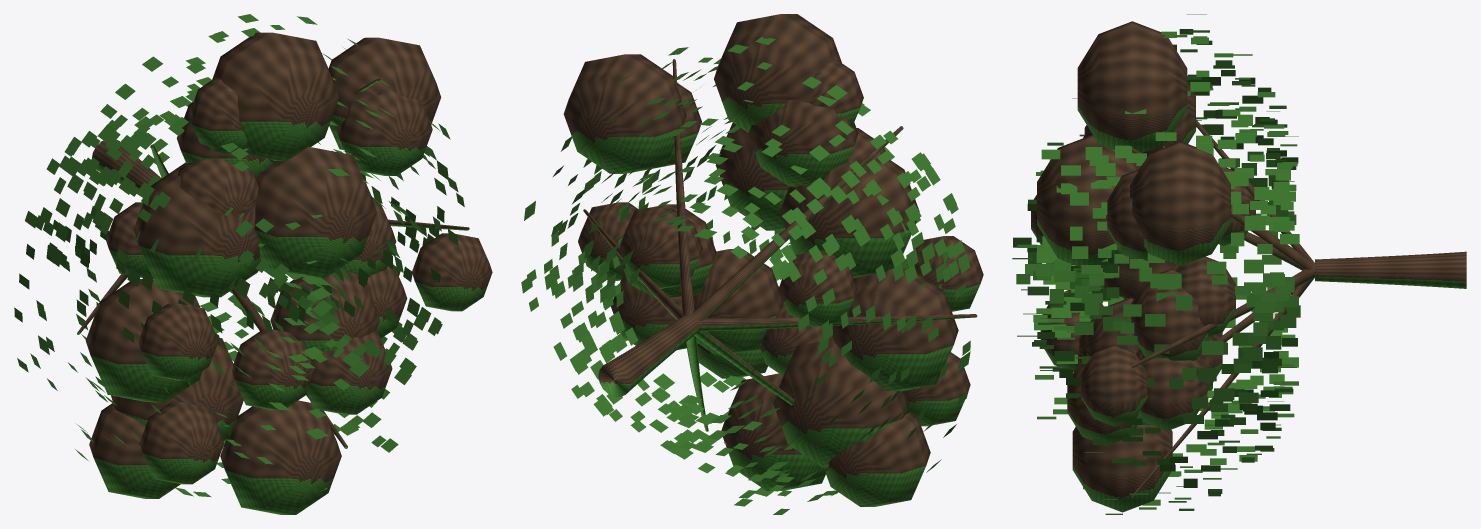
The model's file is veg_tree_oak_01.obj.
3 renders of one model, left to right at view 1: azimuth 30°, elevation 25°; view 2: azimuth 150°, elevation 25°; view 3: azimuth 270°, elevation 25°, orthographic.
Visible parts, largest first — view 1: veg_tree_oak_01; view 2: veg_tree_oak_01; view 3: veg_tree_oak_01.
Part boxes in pixels (left/top/right/bottom): veg_tree_oak_01: left=14, top=14, right=492, bottom=514; veg_tree_oak_01: left=521, top=14, right=983, bottom=514; veg_tree_oak_01: left=1012, top=14, right=1466, bottom=514.
Bounding box in the file's own units: 13.28 × 14.13 × 12.
1 material, 1 textured.
